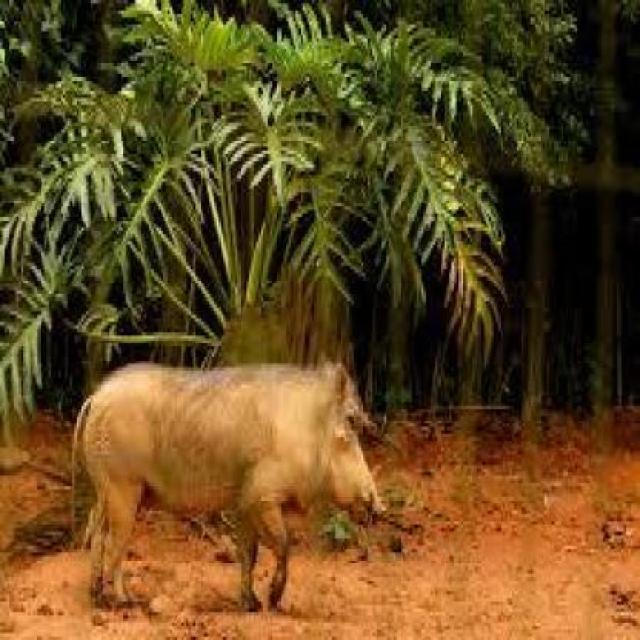wildboar: (67, 352, 385, 611)
